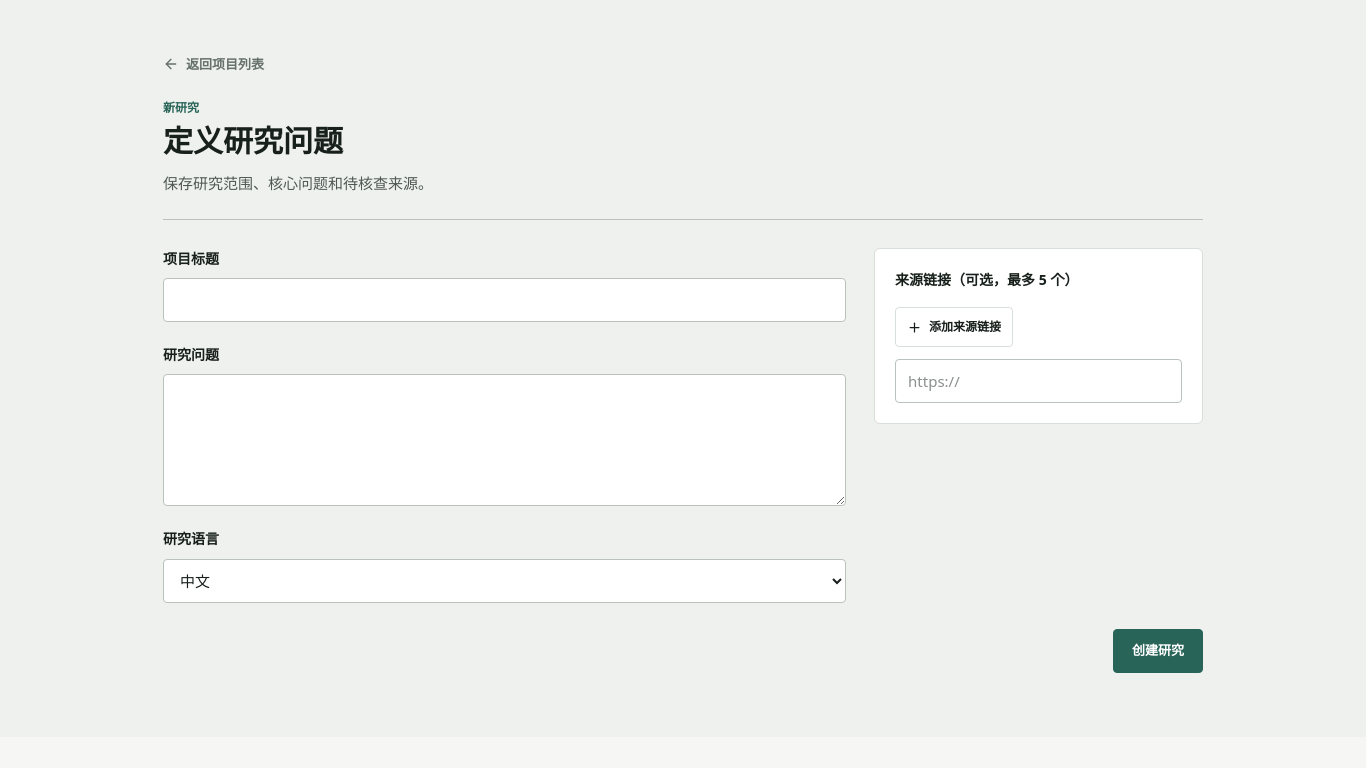
it: managed project workspace UI › preserves the research draft after MONTHLY_RUN_LIMIT_EXCEEDED
The image size is (1366, 768).
Type "可恢复研究" into the field labelled "项目标题".
click(505, 300); type("可恢复研究")  # box [163,278,846,322]
Type "失败后是否保留完整输入？" into the text box labelled "研究问题".
click(505, 440); type("失败后是否保留完整输入？")  # box [163,374,846,506]
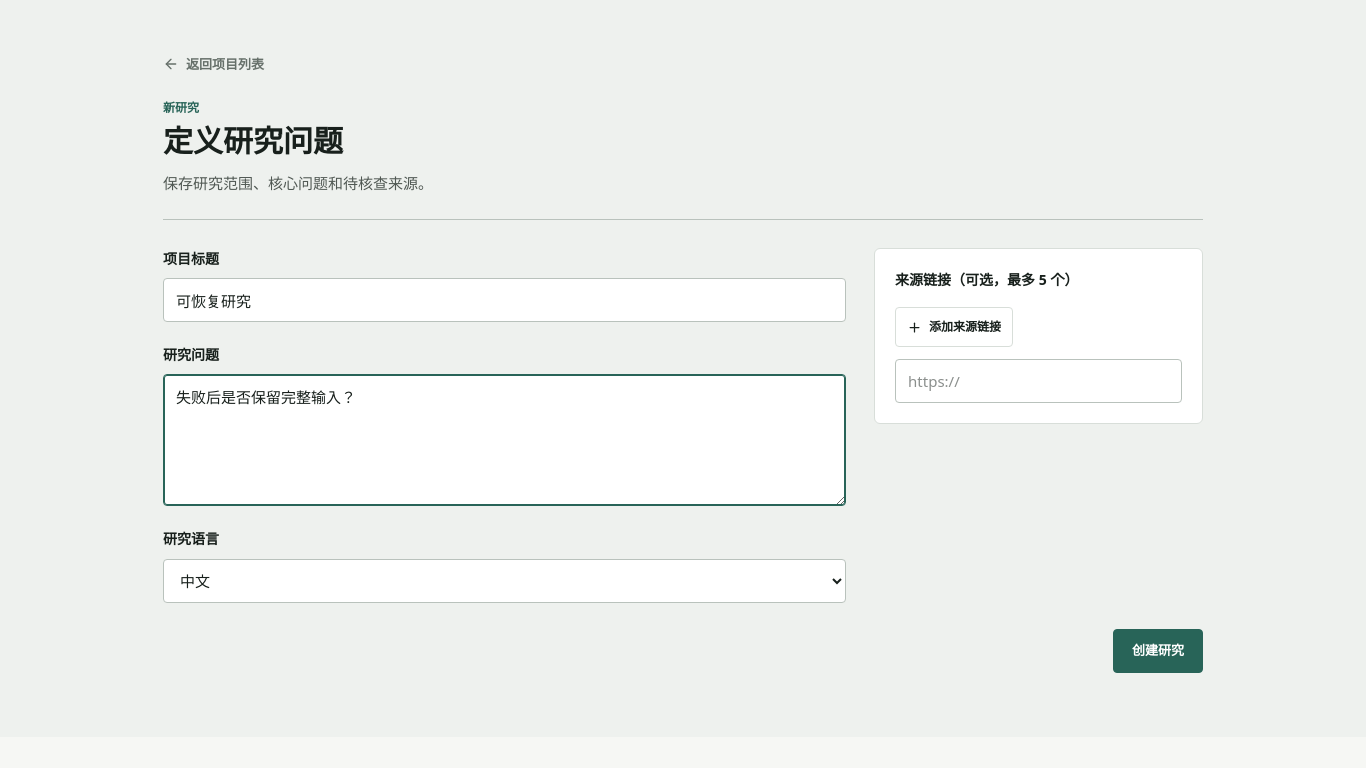
Select "英文" in the dropdown labelled "研究语言" at x=505, y=581, box [163,559,846,603]
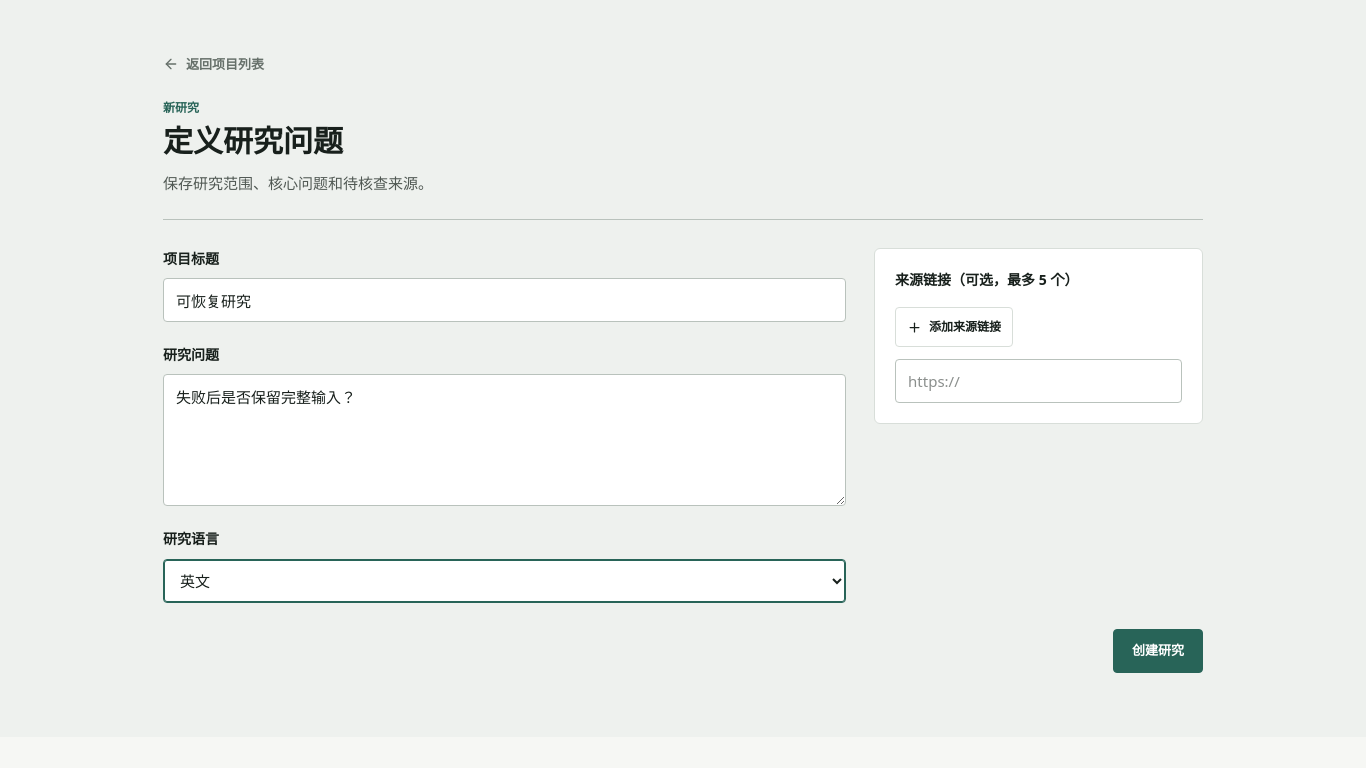
Type "https://example.com/a" into the field named "来源链接 1".
click(1039, 381); type("https://example.com/a")  # box [895,359,1182,403]
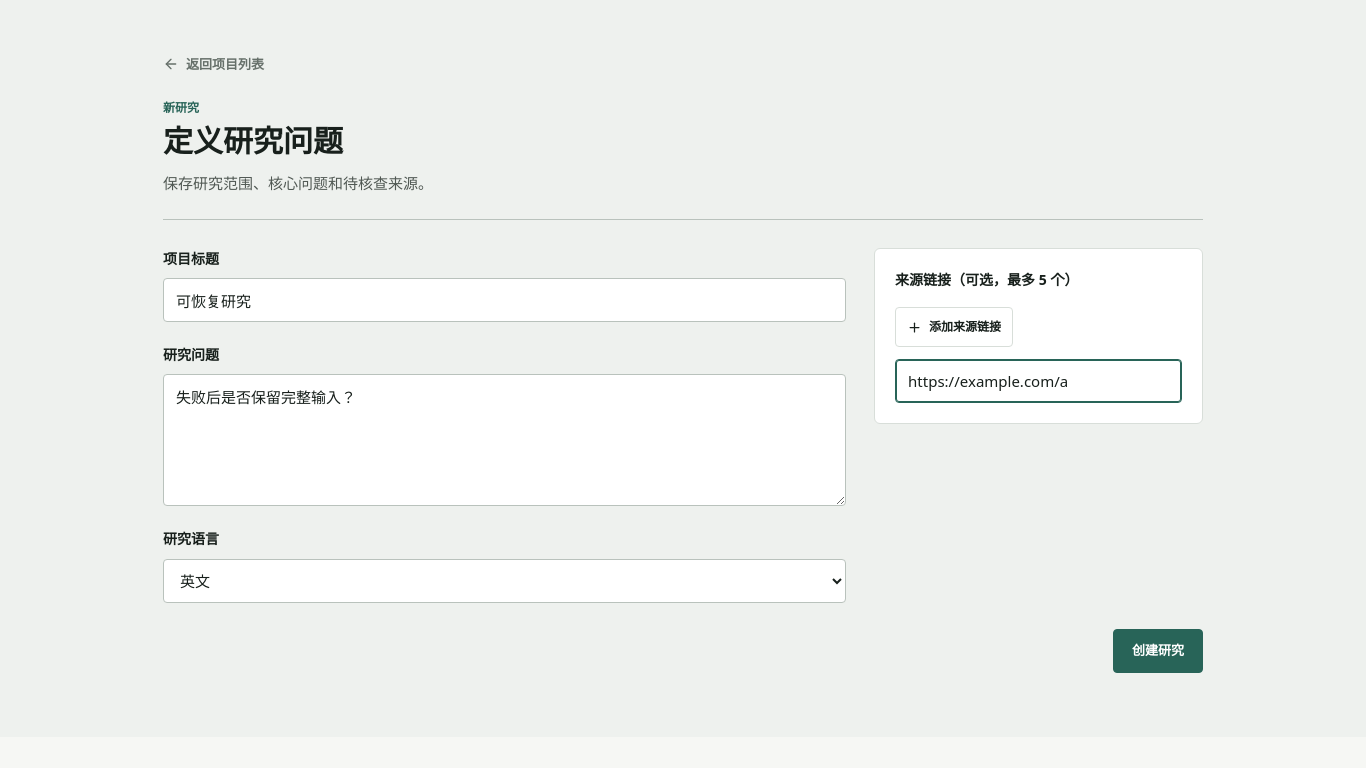
Click the button "添加来源链接".
click(954, 327)  # box [895,307,1013,347]
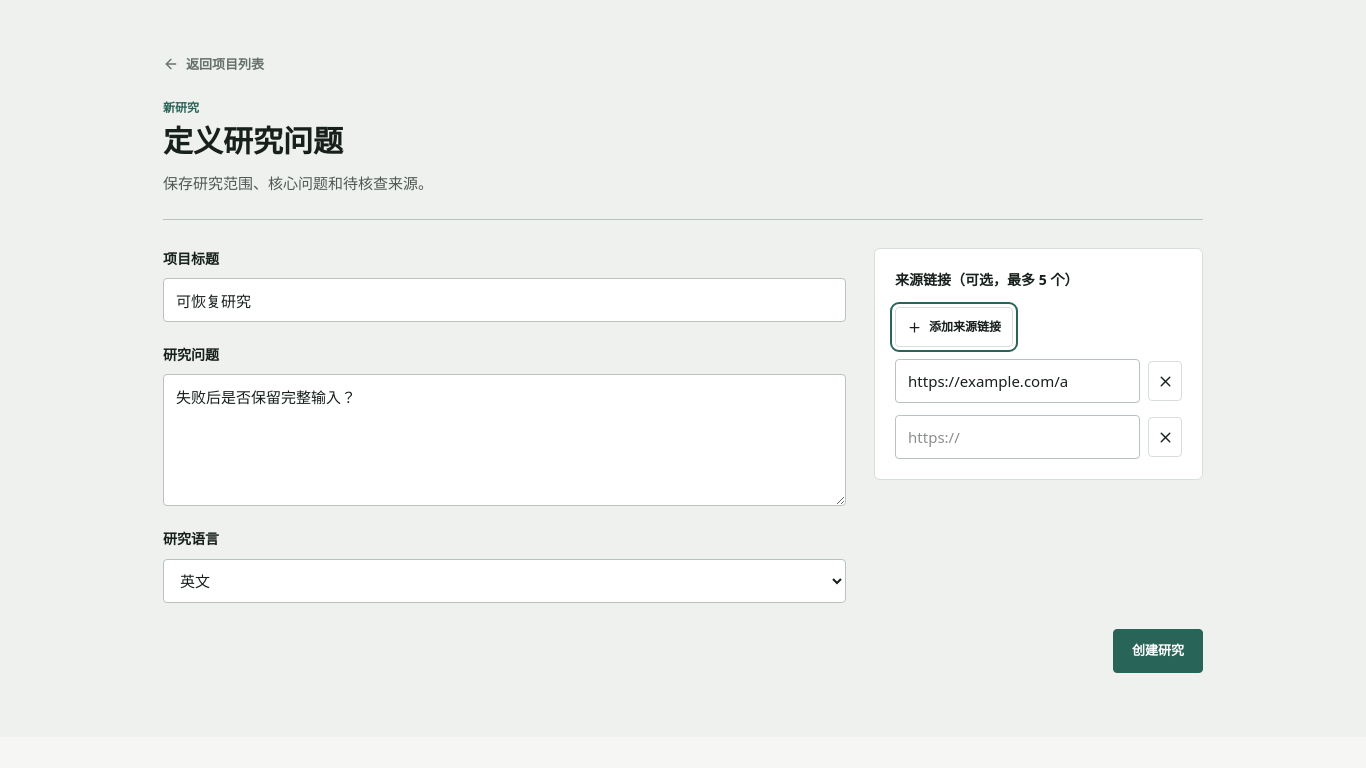
Type "https://example.com/b" into the field named "来源链接 2".
click(1018, 437); type("https://example.com/b")  # box [895,415,1140,459]
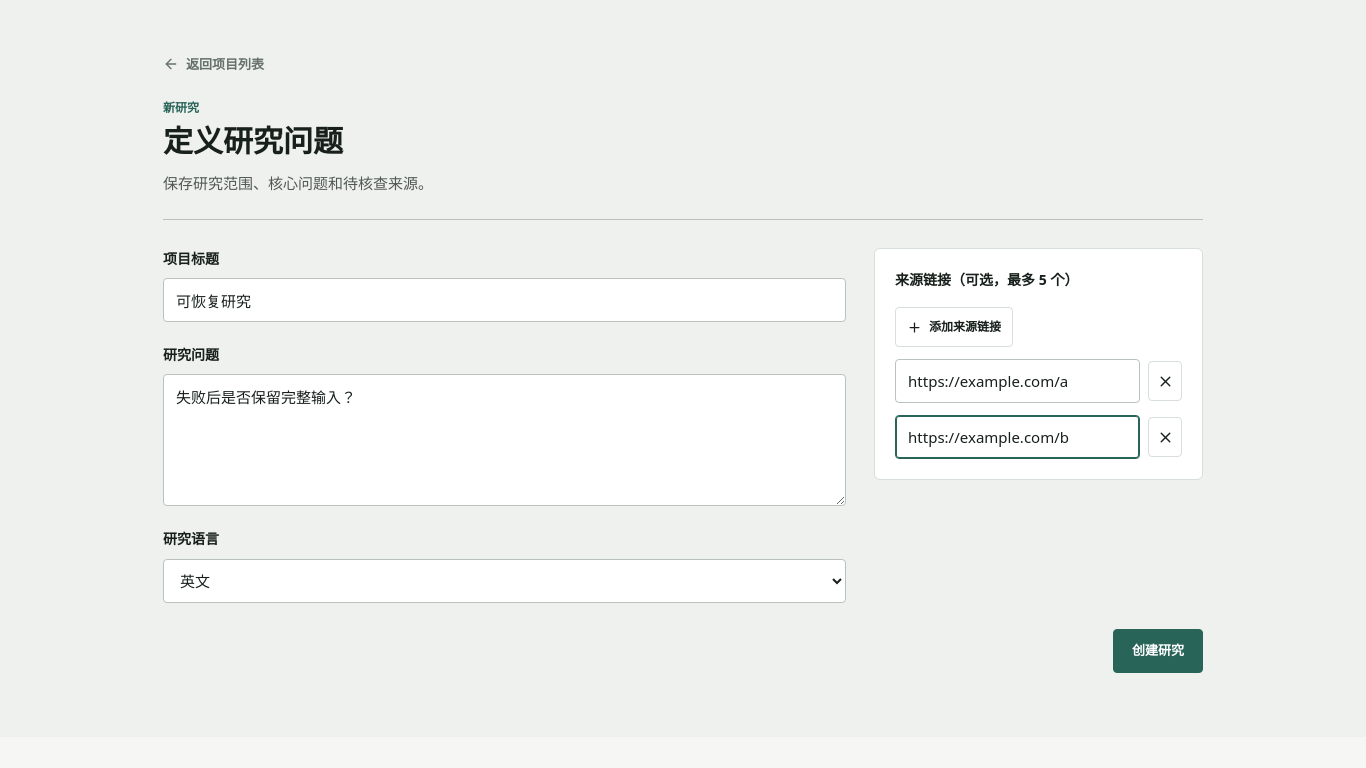
Click the button "创建研究".
click(1158, 651)  # box [1113,629,1203,673]
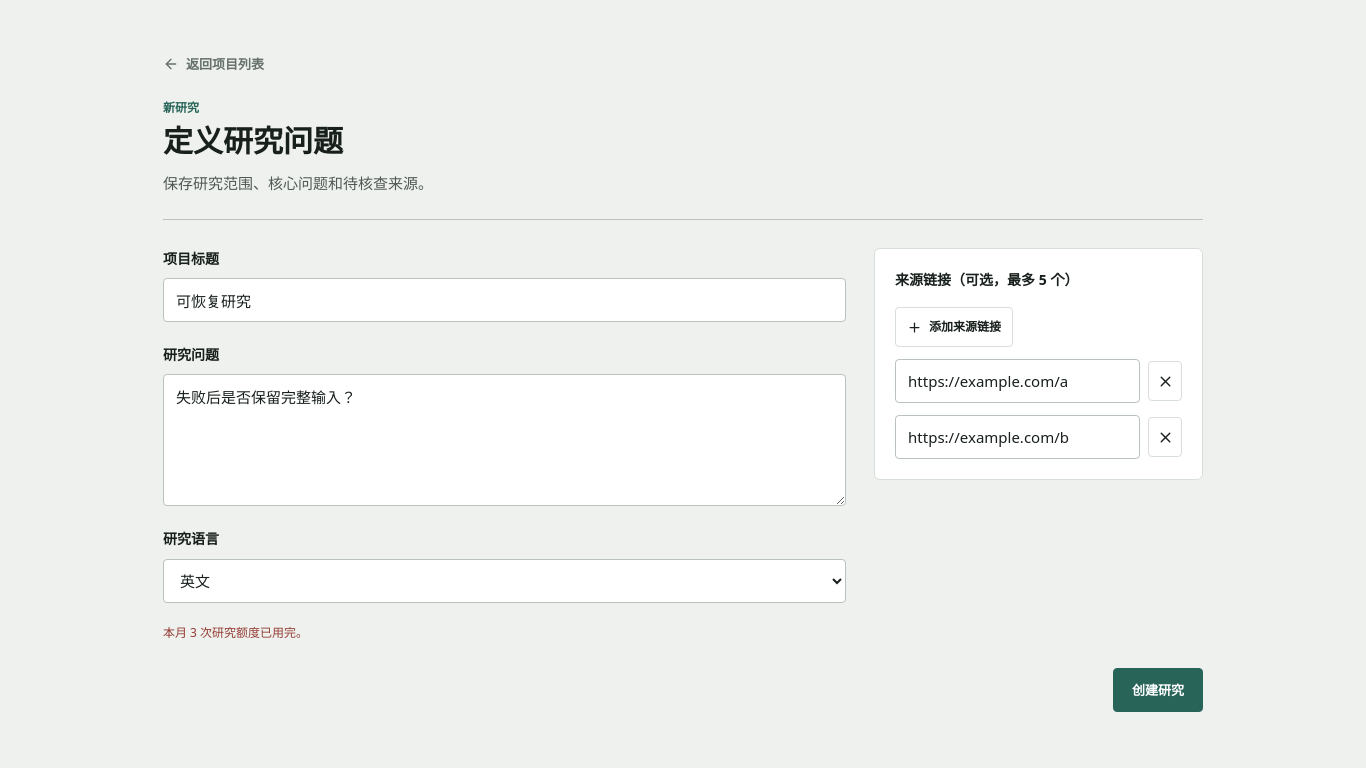
Expected: the message "本月 3 次研究额度已用完。" is shown, [163,624,308,641]
